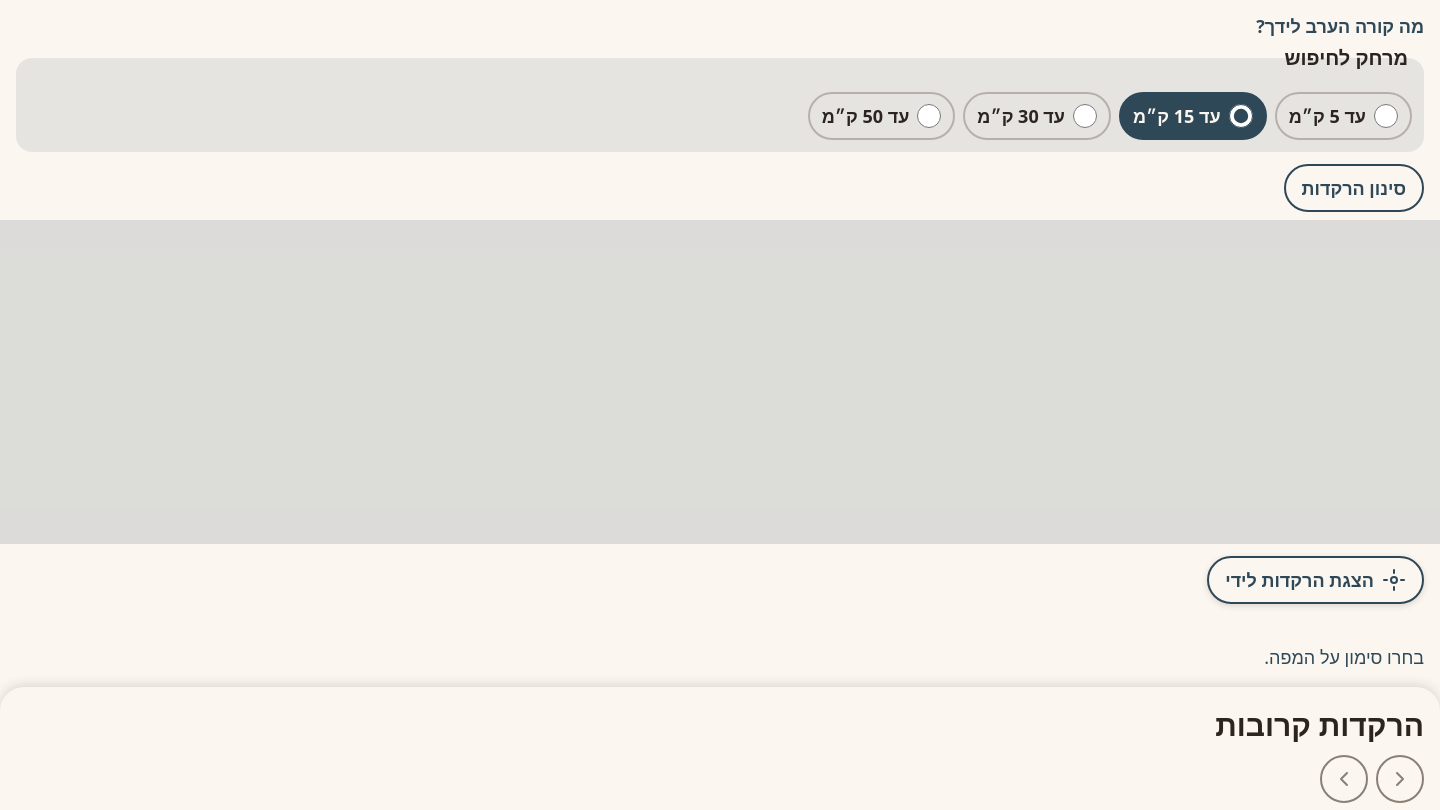
Test case: NearbyDances after a successful locate › tells a dancer with nothing nearby, instead of leaving the old list up
Click the button "הצגת הרקדות לידי". click: (1316, 580)
box: x1=1207 y1=556 x2=1424 y2=604
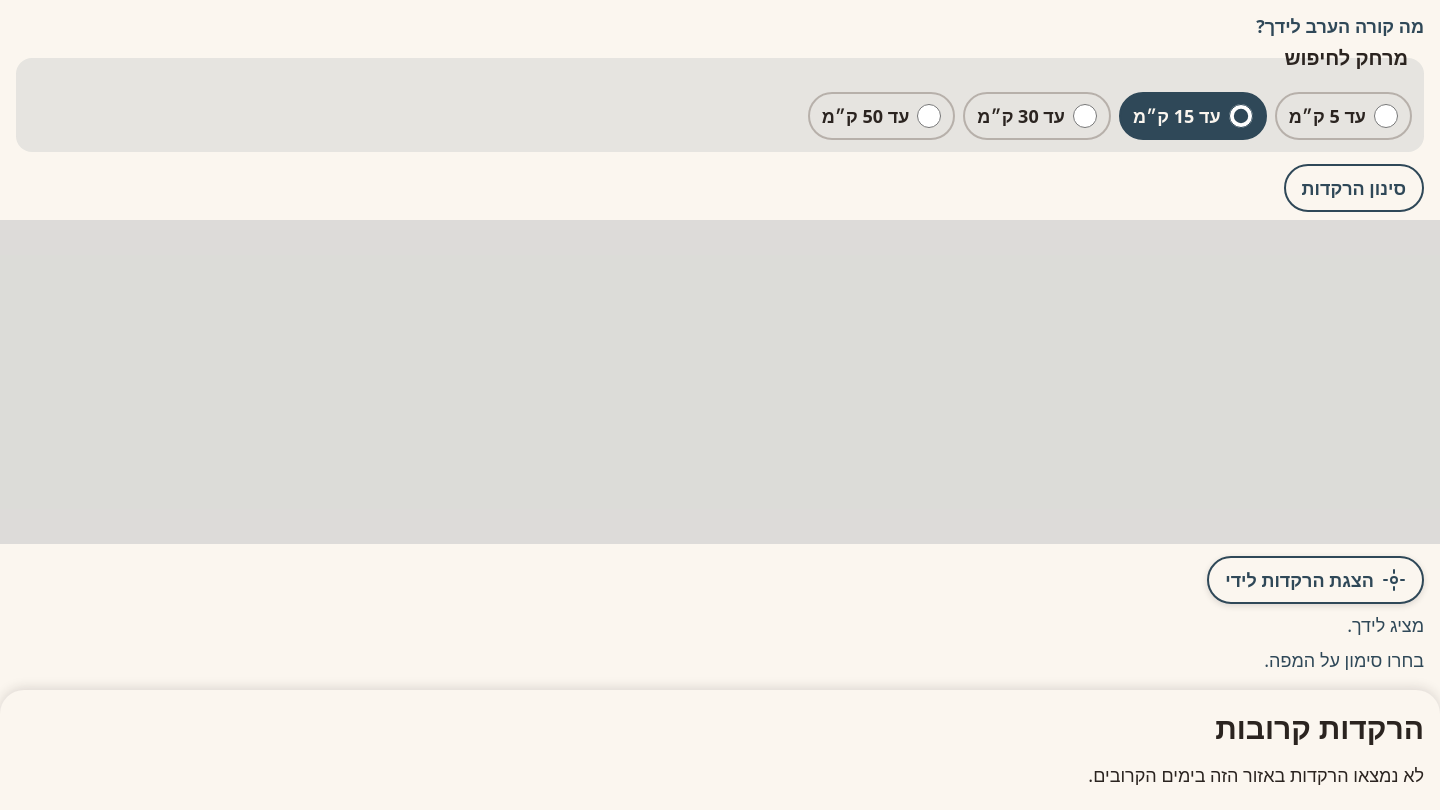
Result: the text "לא נמצאו הרקדות באזור הזה בימים הקרובים." is shown at x1=1088 y1=763 x2=1424 y2=787
